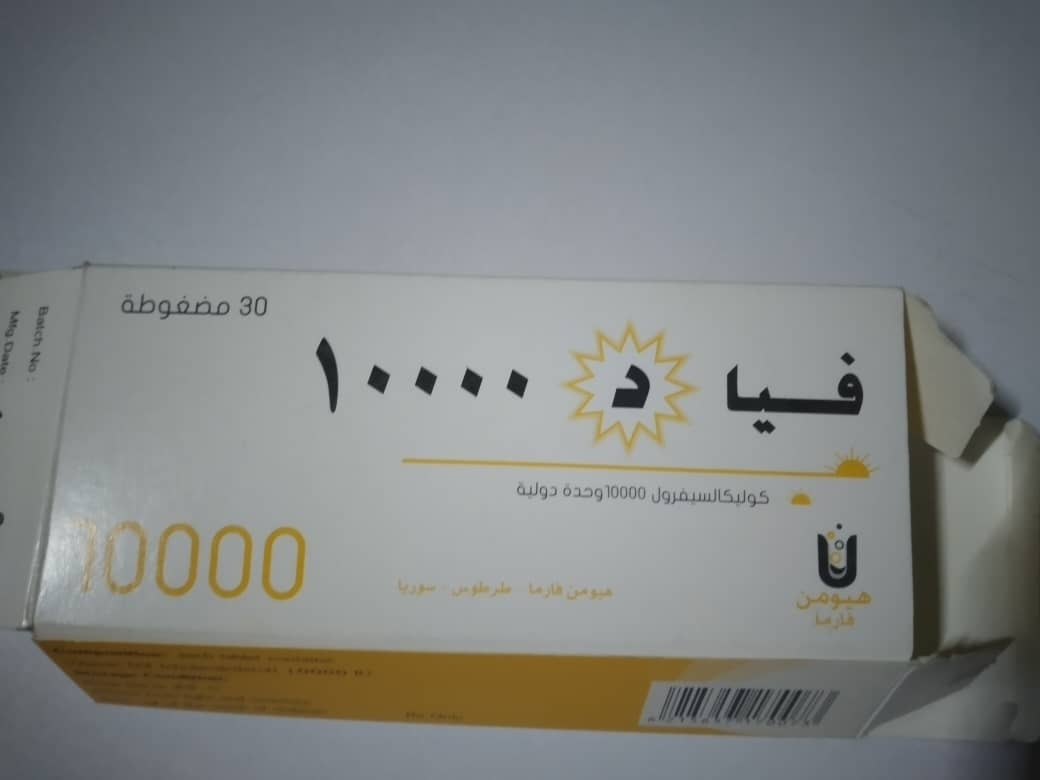Medicine: (4, 212, 1040, 762)
